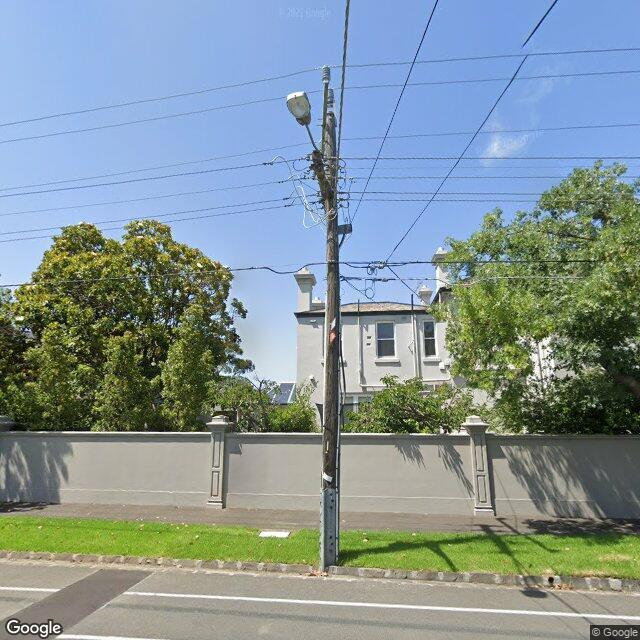HV-transmission: (323, 65, 334, 108)
crossarm: (311, 150, 331, 198)
streetlight: (286, 92, 320, 152)
timber-pole: (318, 111, 339, 567)
